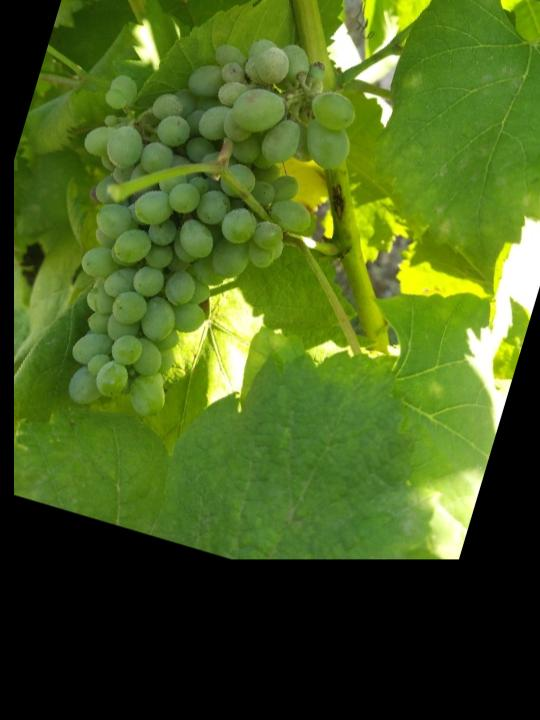grape: (11, 0, 375, 459)
